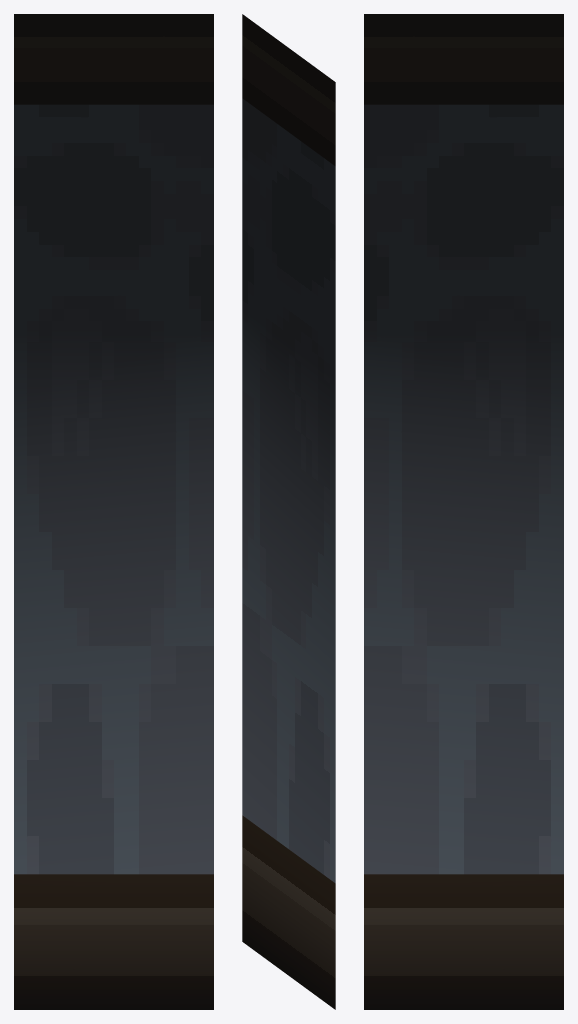
The picture shows the model from 3 angles, left to right: view 1: azimuth 90°, elevation 25°; view 2: azimuth 210°, elevation 25°; view 3: azimuth 270°, elevation 25°; orthographic projection. The views are drawn at different scales.
Size of the model in its own units: 0 by 5.5 by 1.
Materials: 2 (2 with a texture image).
